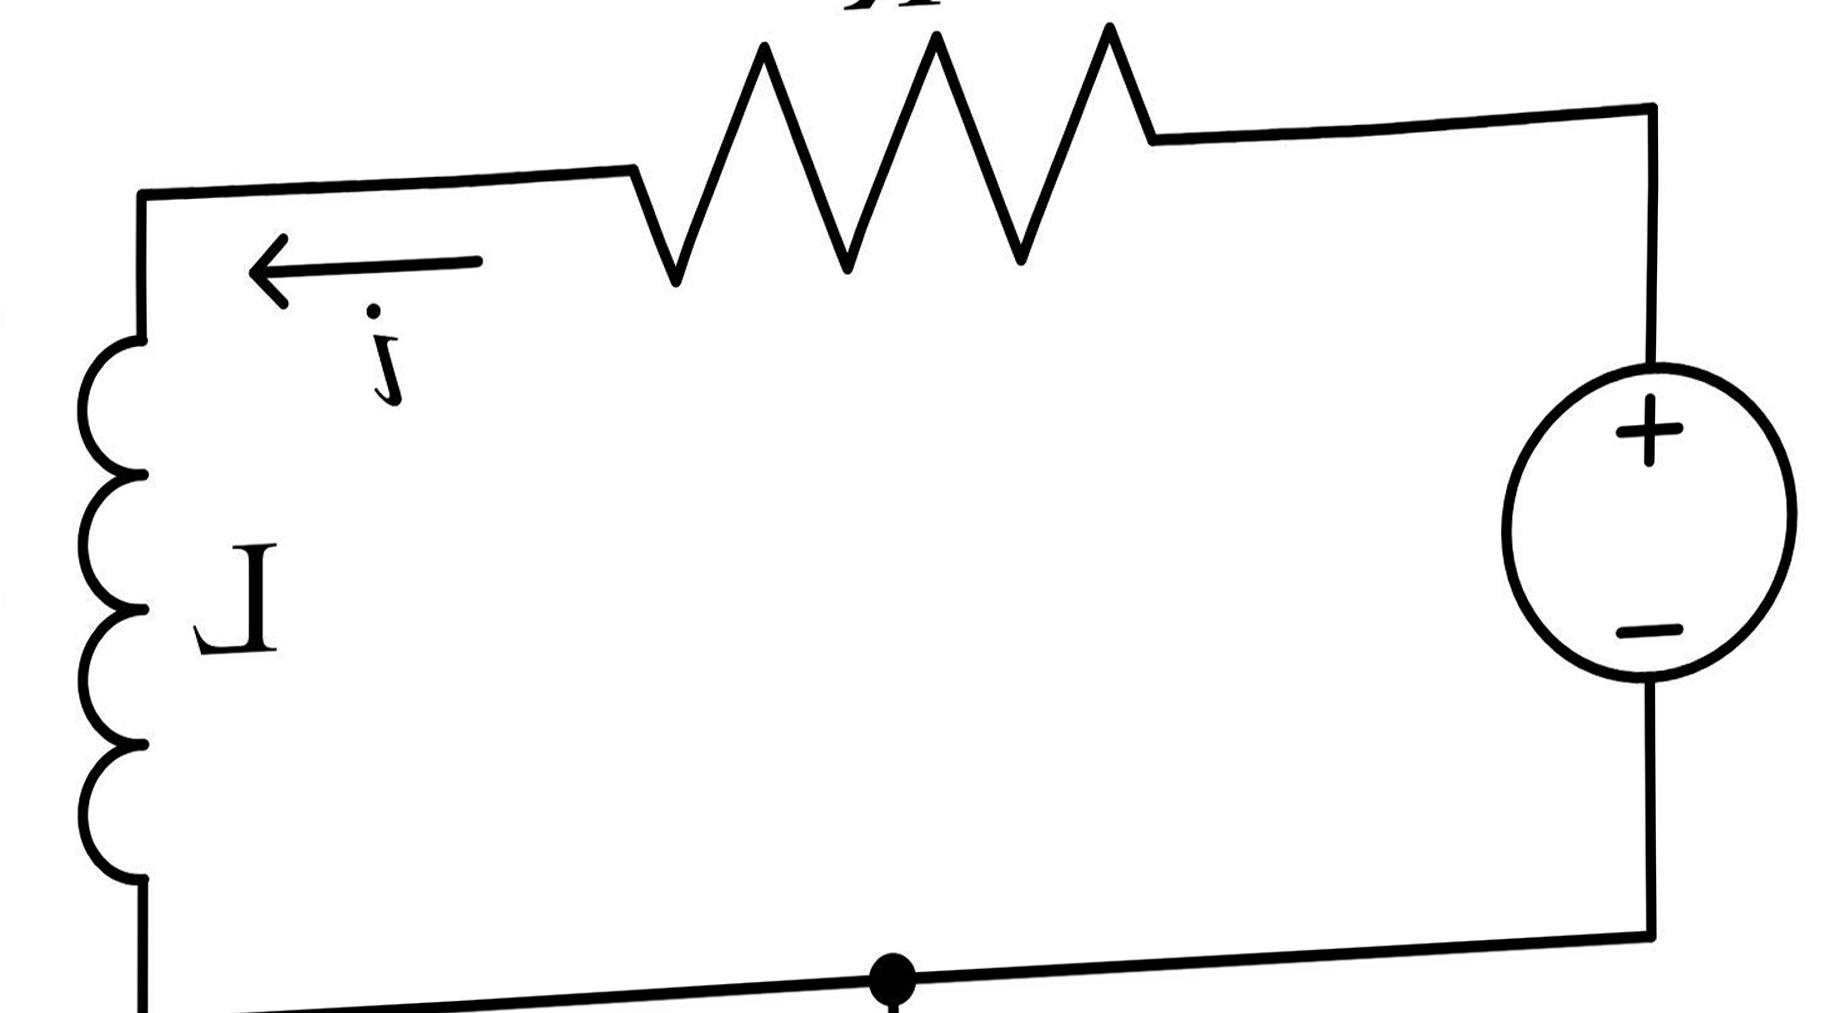Battery: (1461, 323, 1830, 755)
